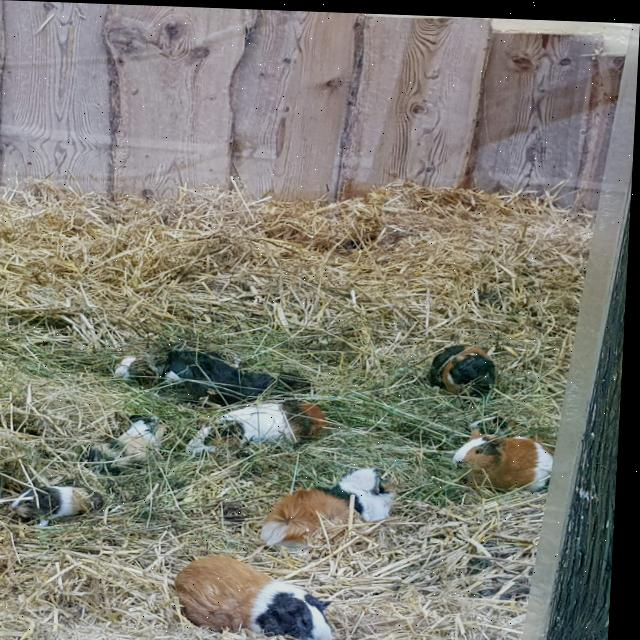guinea pig: (176, 549, 357, 640), (264, 456, 416, 551), (183, 392, 346, 465), (456, 428, 560, 494), (420, 331, 519, 398), (2, 478, 114, 536), (83, 408, 172, 477)
